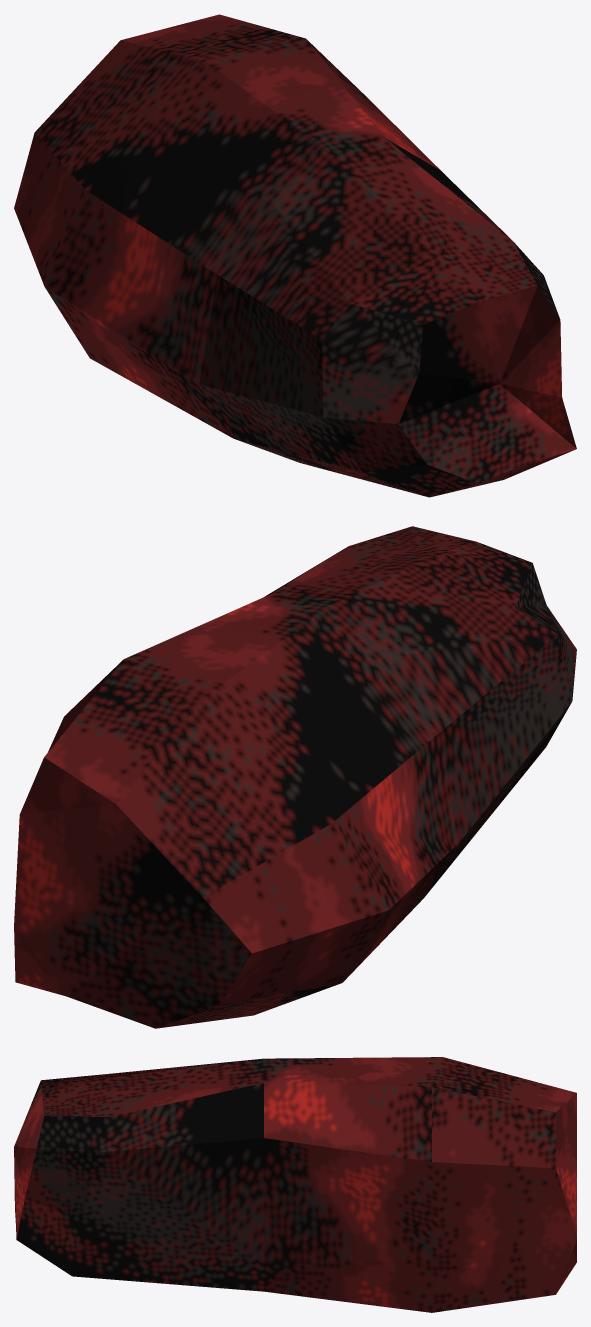
The model's file is bitumeat.glb.
3 renders of one model, top to bottom at view 1: azimuth 30°, elevation 25°; view 2: azimuth 150°, elevation 25°; view 3: azimuth 270°, elevation 25°, orthographic. The views are drawn at different scales.
Parts seen in each view (by area): view 1: obj-bitumeat_buldge; view 2: obj-bitumeat_buldge; view 3: obj-bitumeat_buldge.
Boxes of the visible parts, left/top/right/bottom form: obj-bitumeat_buldge: left=14, top=14, right=576, bottom=497; obj-bitumeat_buldge: left=14, top=526, right=576, bottom=1028; obj-bitumeat_buldge: left=14, top=1057, right=576, bottom=1312.
Size of the model in its own units: 1.8 by 1.72 by 3.64.
1 material, 1 textured.
